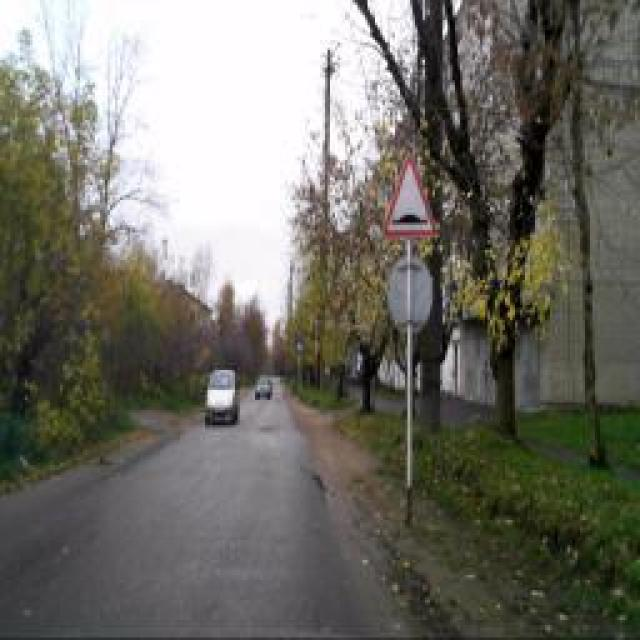sign: (382, 152, 438, 236)
